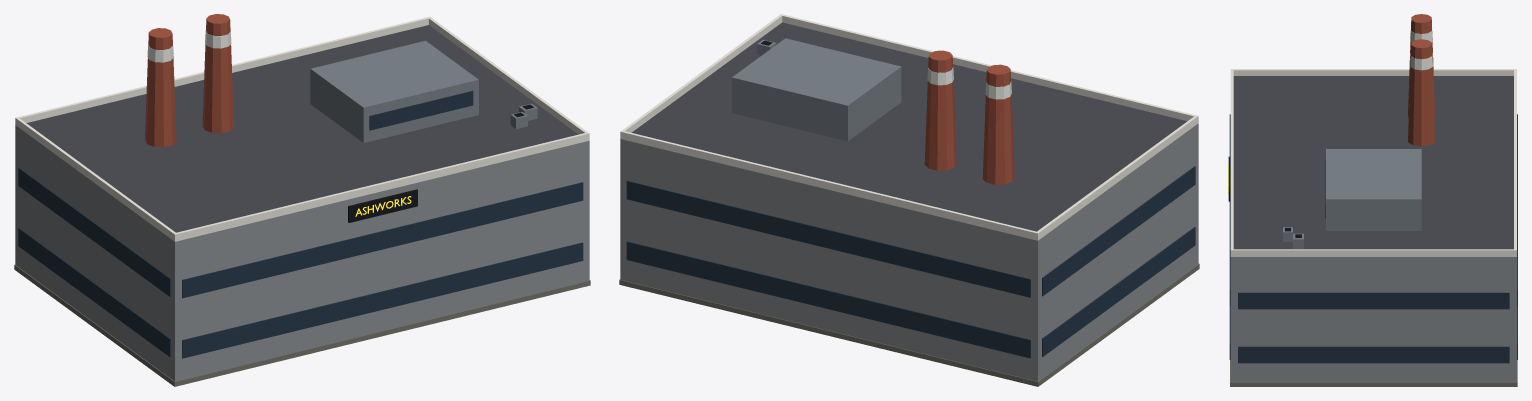
Rendered from factory.glb.
3 views of the same model, side by side, from view 1: azimuth 30°, elevation 25°; view 2: azimuth 150°, elevation 25°; view 3: azimuth 270°, elevation 25° (orthographic). The views are drawn at different scales.
Visible parts, largest first — view 1: factory_Body, factory_SignBoard; view 2: factory_Body; view 3: factory_Body.
Part boxes in pixels (box(x1,y1,x2,y2)): factory_Body: box(14, 14, 590, 386); factory_SignBoard: box(348, 189, 417, 222); factory_Body: box(619, 14, 1199, 386); factory_Body: box(1229, 14, 1517, 386).
Size of the model in its own units: 36.16 by 21 by 24.3.
